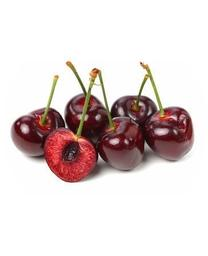cherry: (44, 128, 97, 183), (10, 107, 66, 159), (143, 107, 195, 162), (98, 118, 144, 172), (63, 93, 108, 141), (111, 96, 156, 139)
